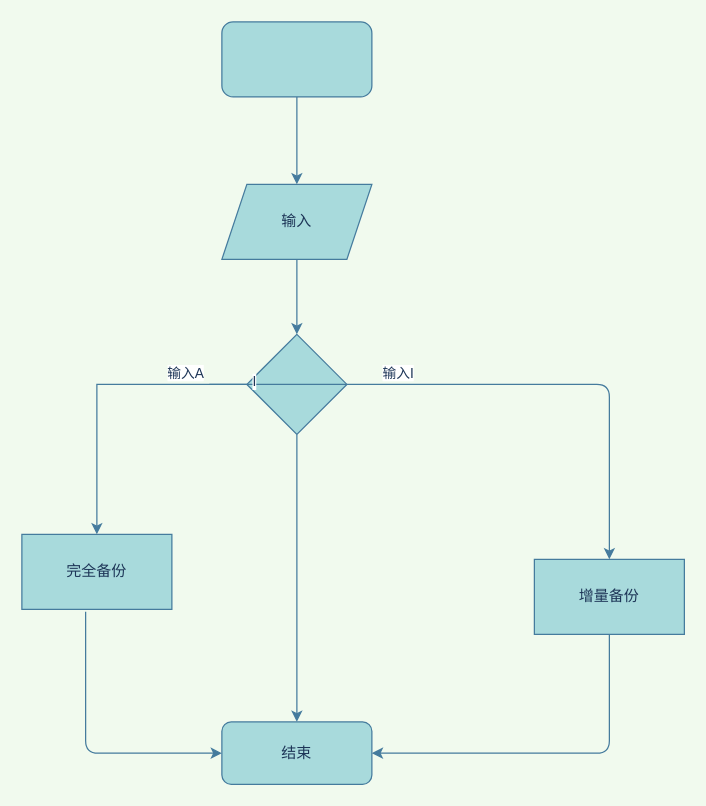
This 706x806 diagram has some shape labels left out. Each missing label, with the centre of its shape:
"判断 A/I" goes at (296,383).
"开始" goes at (296,59).
